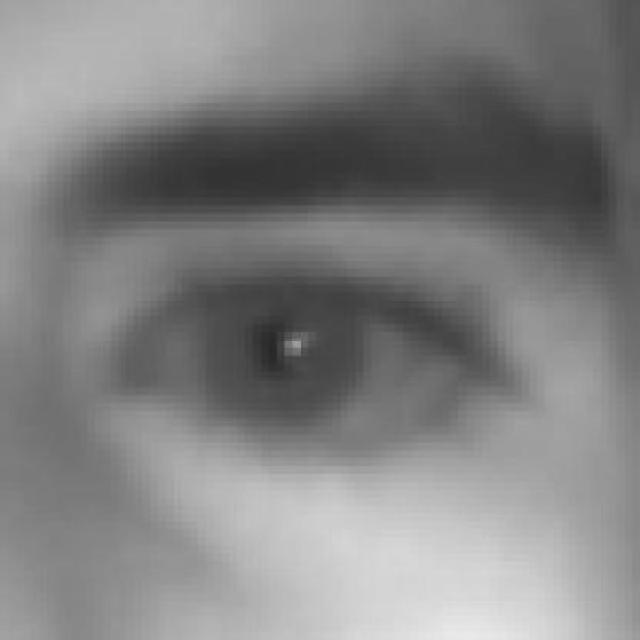awake: (104, 265, 496, 467)
